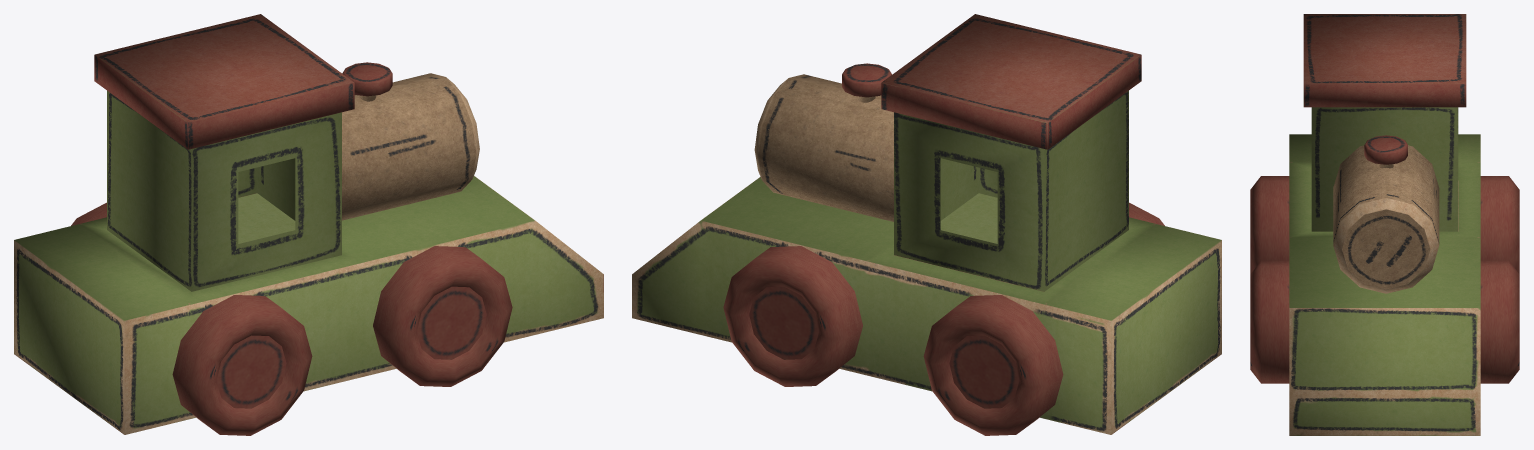
The model's file is Train00.fbx.
The picture shows the model from 3 angles, left to right: view 1: azimuth 30°, elevation 25°; view 2: azimuth 150°, elevation 25°; view 3: azimuth 270°, elevation 25°; orthographic projection. The views are drawn at different scales.
Visible parts, largest first — view 1: train; view 2: train; view 3: train.
Part boxes in pixels (x1,y1,x2,y2): train: (14,14,603,435); train: (632,14,1221,435); train: (1250,14,1519,435).
Size of the model in its own units: 74.01 by 44.86 by 41.6.
Materials: 1 (1 with a texture image).
